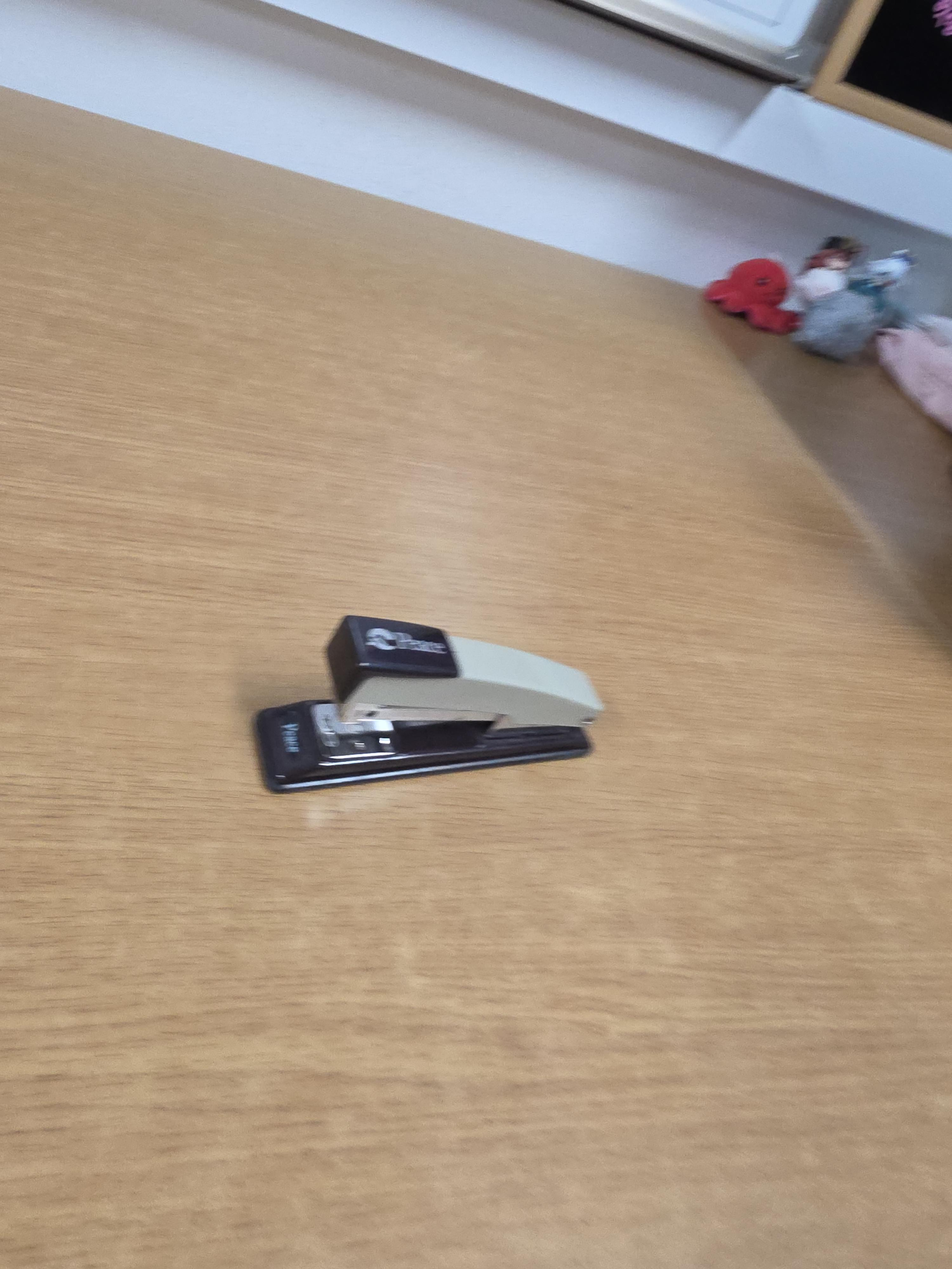stapler: (253, 612, 606, 795)
